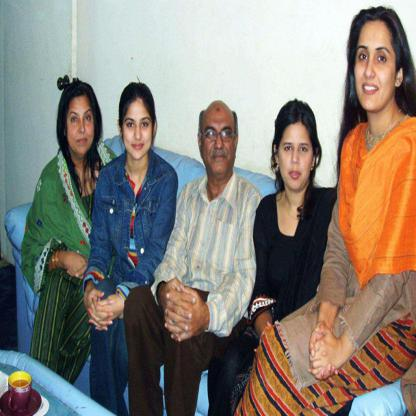face: (356, 24, 398, 110), (280, 126, 314, 194), (202, 112, 237, 176), (126, 101, 155, 160), (67, 97, 95, 155)
